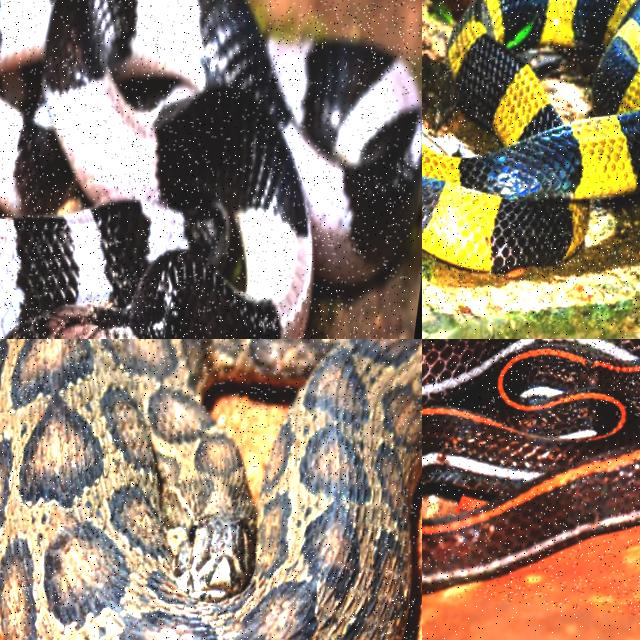Bungarus candidus: (0, 0, 421, 338)
Bungarus fasciatus: (422, 0, 639, 271)
Calliophis intestinalis: (422, 339, 639, 591)
Daboia siamensis: (0, 339, 421, 639)
